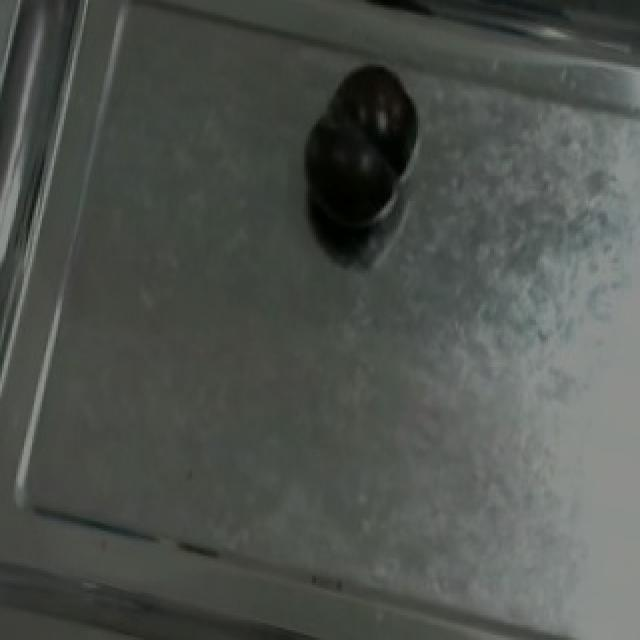Fruit: (288, 50, 430, 243)
